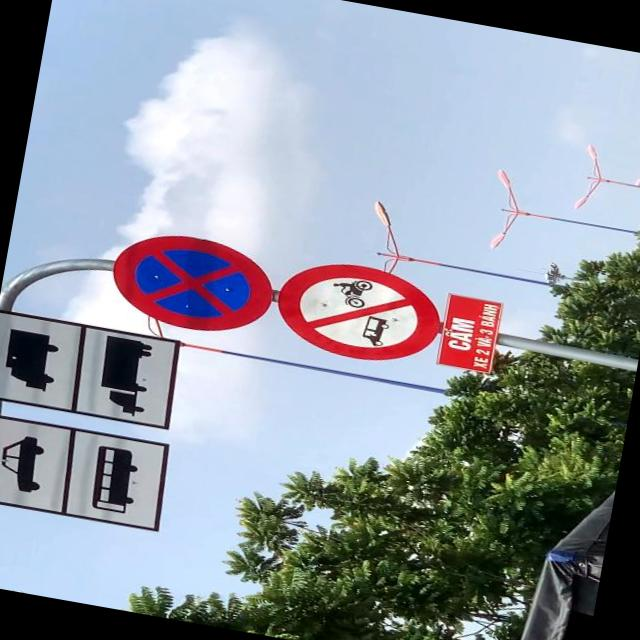P-104: (272, 250, 450, 370)
P-130: (101, 222, 280, 340)
